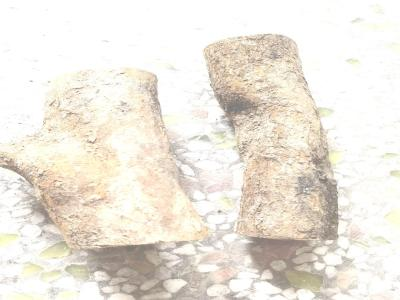Root: (0, 68, 208, 248), (203, 34, 337, 240)
